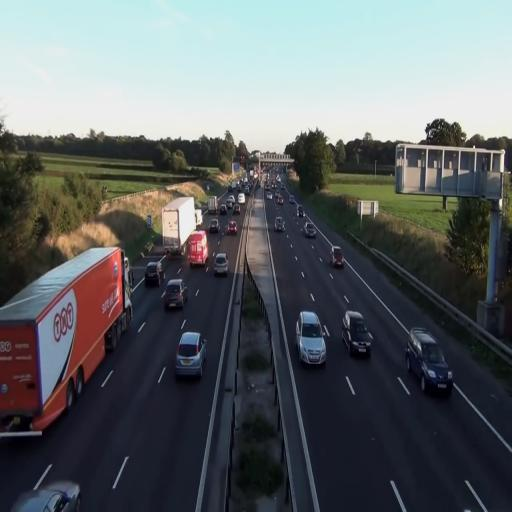vehicle: (0, 245, 132, 436), (405, 325, 453, 396), (10, 465, 82, 511), (161, 196, 196, 256), (297, 310, 327, 367), (175, 330, 207, 378), (341, 311, 373, 358), (163, 278, 187, 312), (144, 262, 161, 288), (214, 252, 228, 275), (331, 246, 343, 268), (304, 221, 316, 238), (275, 214, 284, 232)
